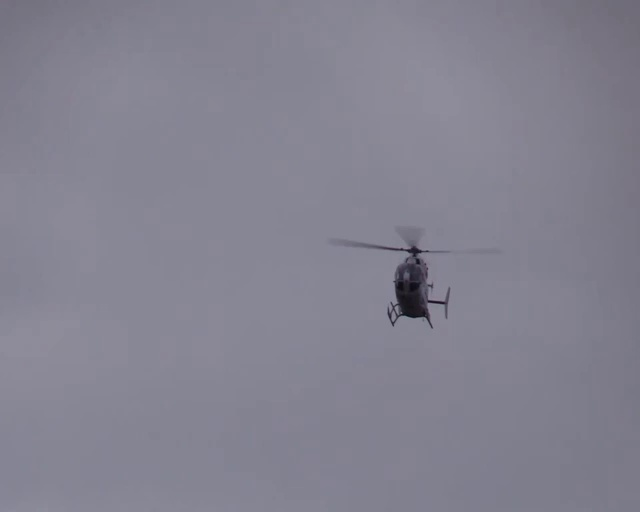HELICOPTER: (326, 225, 504, 329)
